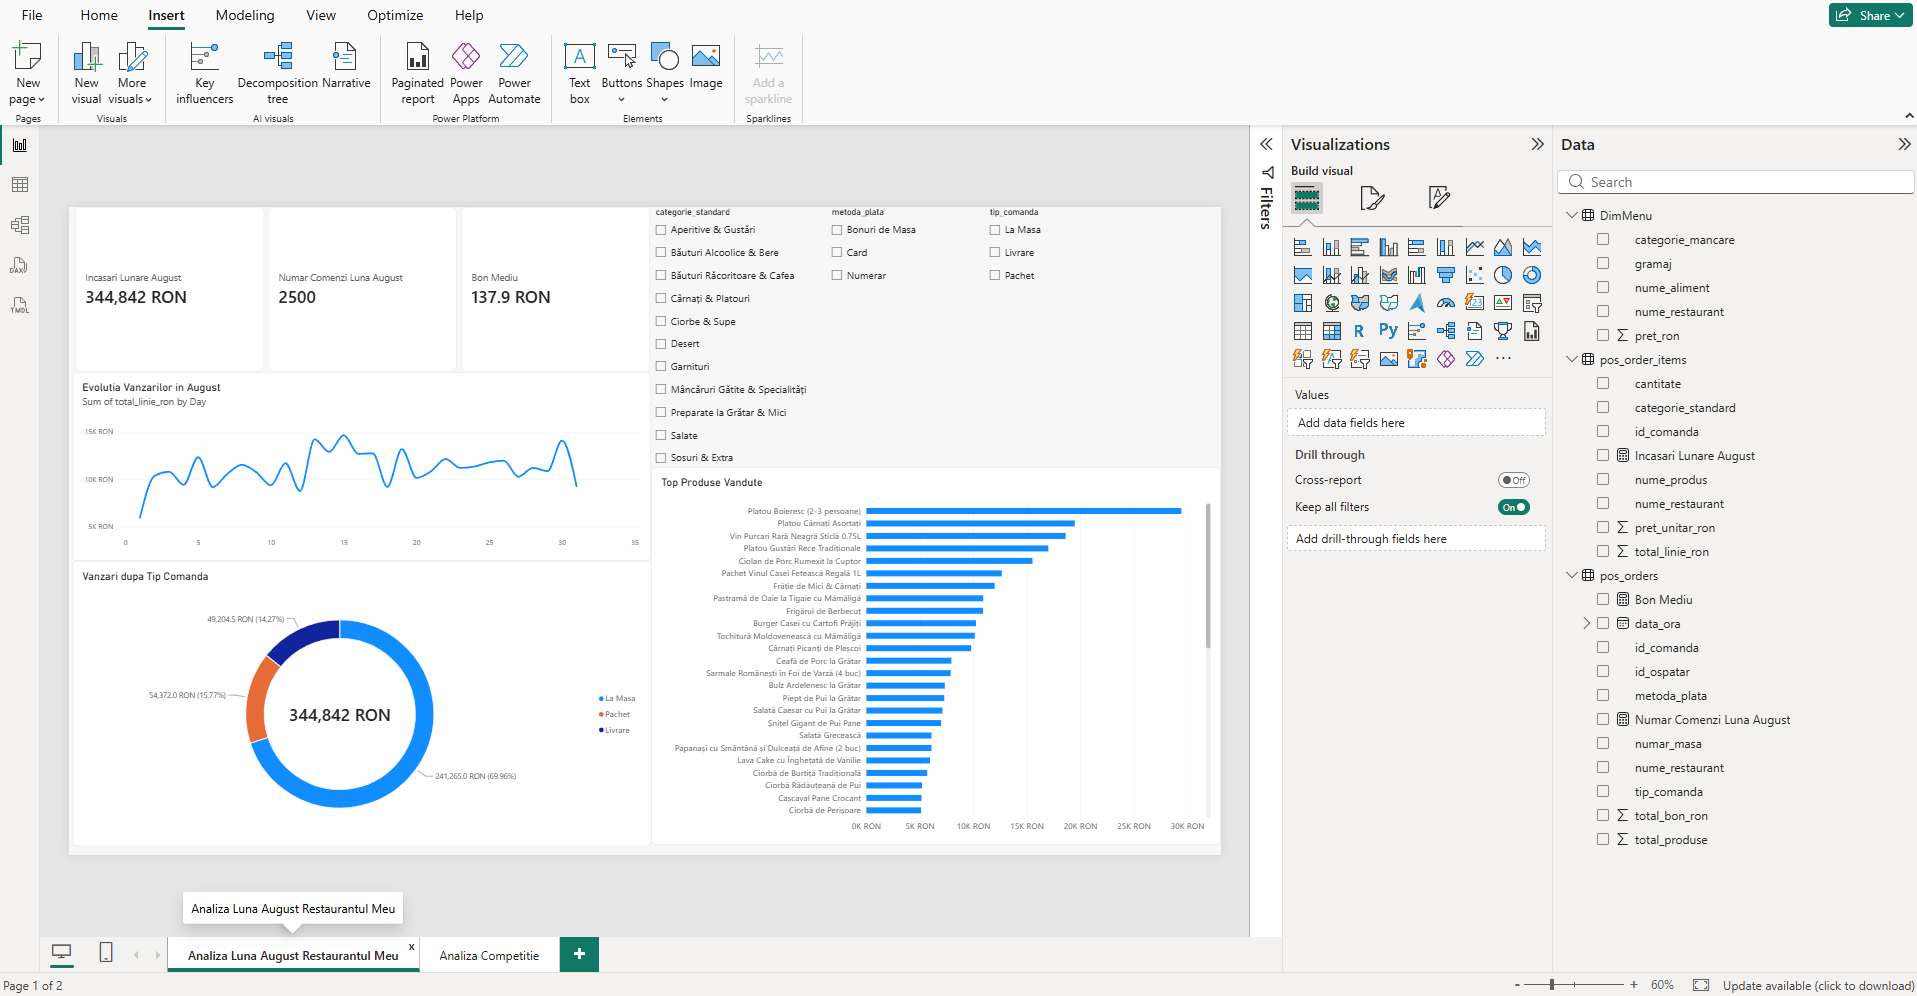

What the dashboard file says about the page in this screenshot:
{"tool":"powerbi","page":{"name":"Analiza Luna August Restaurantul Meu","canvas":[1920,1080],"ordinal":0},"visuals":[{"type":"cardVisual","fields":{"Data":["pos_order_items.Incasari Lunare August","pos_orders.Numar Comenzi Luna August","pos_orders.Bon Mediu"]},"box":[9.5,0,960.8,274.7],"z":0},{"type":"lineChart","title":"Evolutia Vanzarilor in August","fields":{"Category":["pos_orders.data_ora.Variation.Date Hierarchy.Day"],"Y":["Sum(pos_order_items.total_linie_ron)"]},"box":[5,275,965,315],"z":1000},{"type":"donutChart","title":"Vanzari dupa Tip Comanda","fields":{"Category":["pos_orders.tip_comanda"],"Y":["Sum(pos_order_items.total_linie_ron)"]},"box":[4.8,589.2,965.6,474.8],"z":2000},{"type":"clusteredBarChart","title":"Top Produse Vandute","fields":{"Category":["pos_order_items.nume_produs"],"Y":["Sum(pos_order_items.total_linie_ron)"]},"box":[970,433.3,950,630],"z":3000},{"type":"slicer","fields":{"Values":["pos_order_items.categorie_standard"]},"box":[970,0,273.3,453.3],"z":4000},{"type":"slicer","fields":{"Values":["pos_orders.metoda_plata"]},"box":[1263.3,0,368.3,143.3],"z":5000},{"type":"slicer","fields":{"Values":["pos_orders.tip_comanda"]},"box":[1526.7,0,208.3,263.3],"z":6000}]}

Visuals, with their boxes on the page's 1920x1080 design canvas (x1, y1, x2, y2). These are canvas units, not pixel positions in the 1917x996 screenshot, which may show the page scaled, cropped or inside an application window:
cardVisual - pos_order_items.Incasari Lunare August x pos_orders.Numar Comenzi Luna August: box(10, 0, 970, 275)
"Evolutia Vanzarilor in August" lineChart: box(5, 275, 970, 590)
"Vanzari dupa Tip Comanda" donutChart: box(5, 589, 970, 1064)
"Top Produse Vandute" clusteredBarChart: box(970, 433, 1920, 1063)
slicer - pos_order_items.categorie_standard: box(970, 0, 1243, 453)
slicer - pos_orders.metoda_plata: box(1263, 0, 1632, 143)
slicer - pos_orders.tip_comanda: box(1527, 0, 1735, 263)
